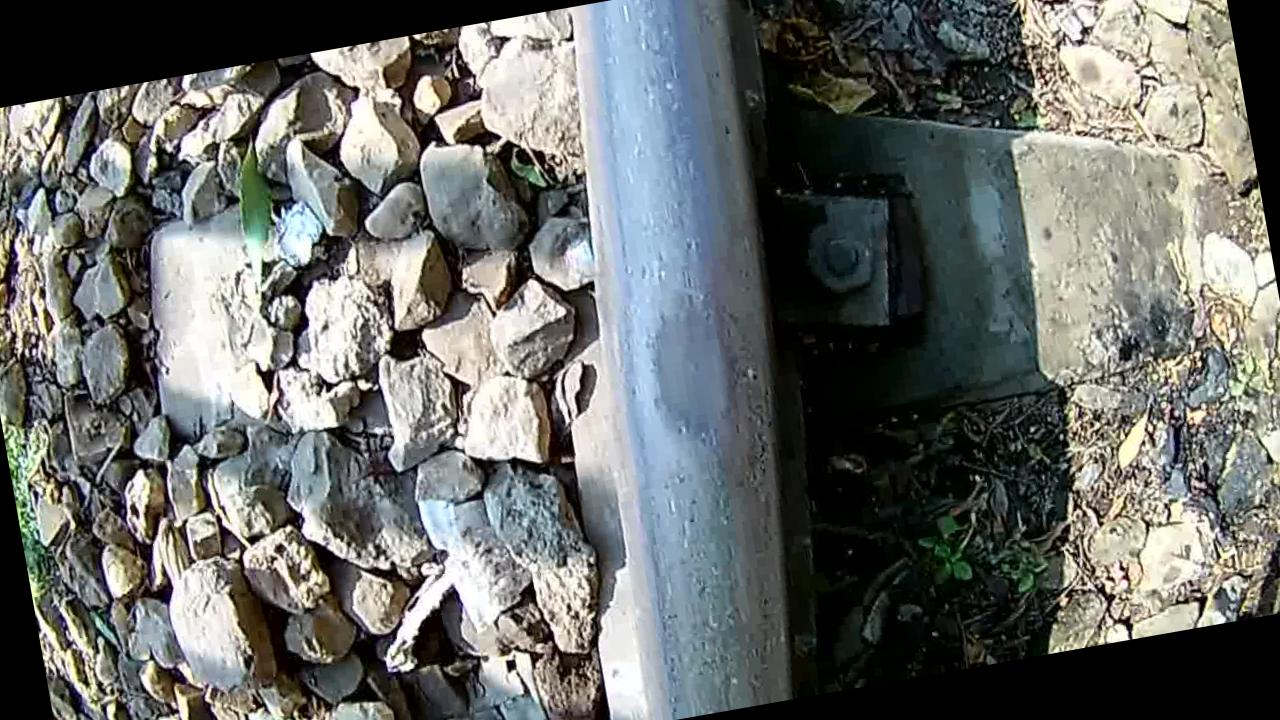bolt_missing: (596, 206, 793, 520)
